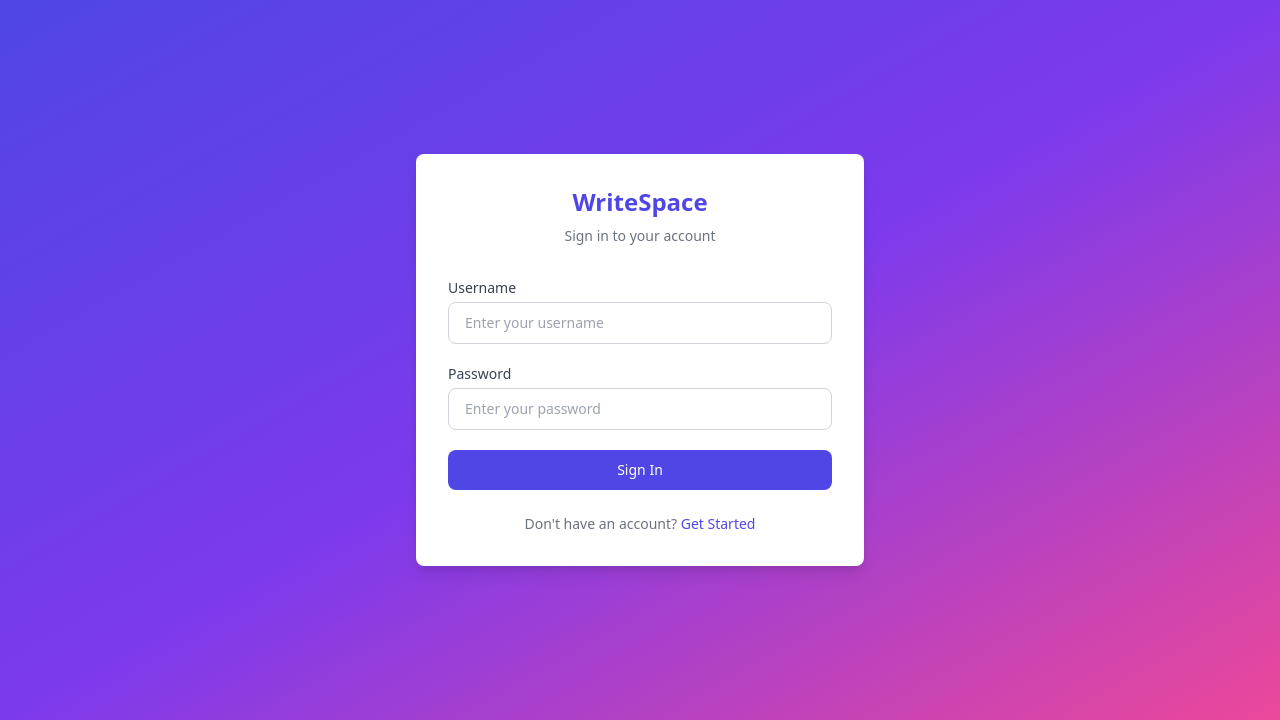
Test: LoginPage › validation › displays error when both fields are empty
The width and height of the screenshot is (1280, 720).
Click the button "Sign In" at [640, 470], box [448,450,832,490]
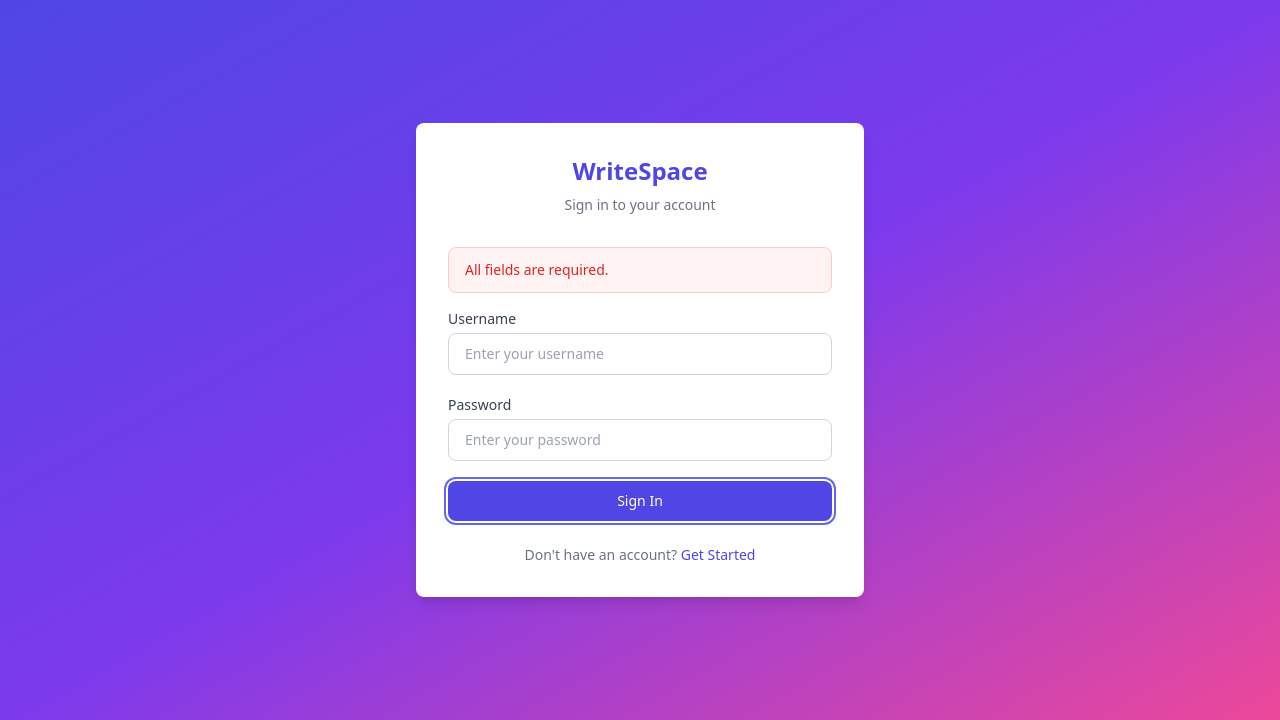
Result: the text "All fields are required." is shown at [448,247,832,293]
